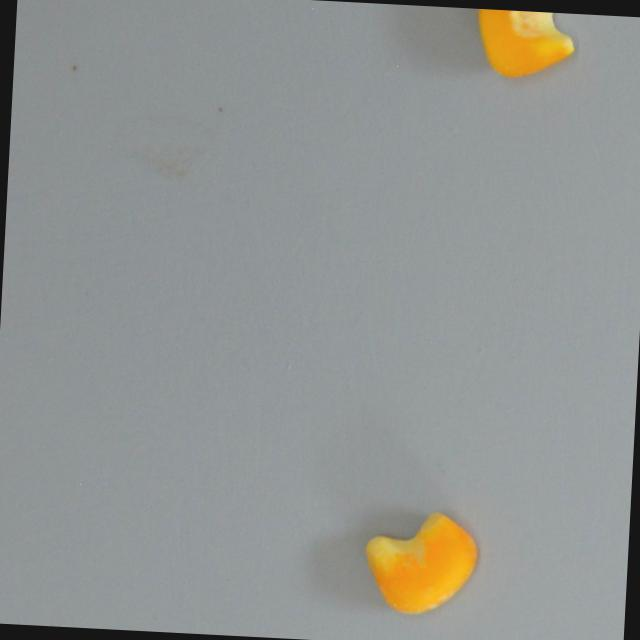no_canjicado: (470, 8, 574, 79)
pelicula: (360, 507, 478, 617)
